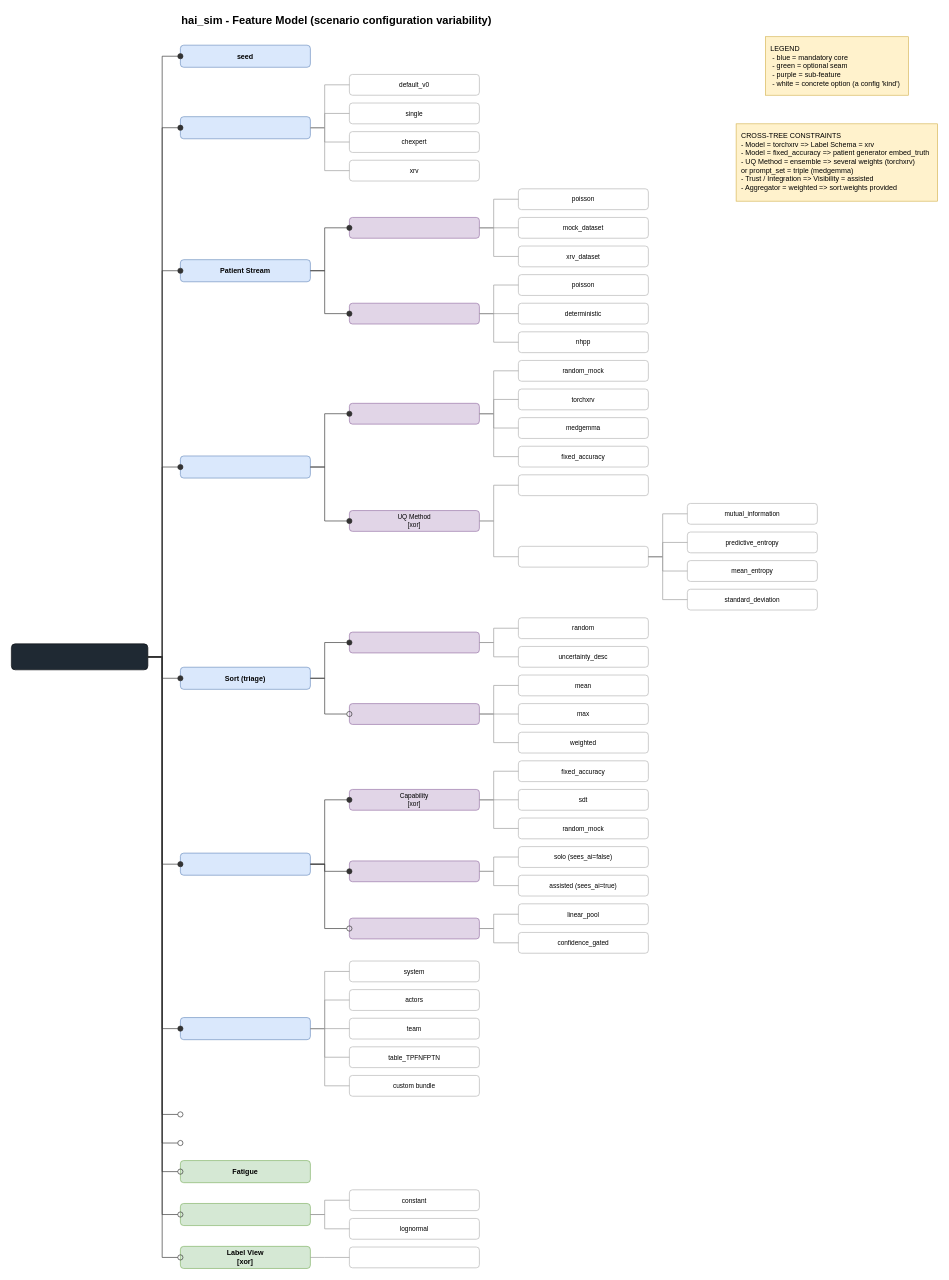
The diagram is 949 pixels wide and 1280 high, and some of its shapes have lost their labels. Each missing label, with the box of its shape:
Aggregator [xor]: (349, 703, 479, 724)
AI: (180, 455, 310, 478)
Arrival Process [xor]: (349, 303, 479, 324)
Doctor / Persona: (180, 852, 310, 875)
ensemble [xor]: (518, 546, 648, 567)
entropy: (518, 474, 648, 496)
Generator [xor]: (349, 217, 479, 238)
hai_sim Scenario: (11, 643, 148, 670)
KPIs [or]: (180, 1017, 310, 1040)
Label Schema [xor]: (180, 116, 310, 139)
Model [xor]: (349, 403, 479, 424)
Service Time [xor]: (180, 1203, 310, 1226)
Strategy [xor]: (349, 631, 479, 653)
subset: (349, 1246, 479, 1268)
Trust / Integration [xor]: (349, 917, 479, 939)
Visibility [xor]: (349, 860, 479, 882)
